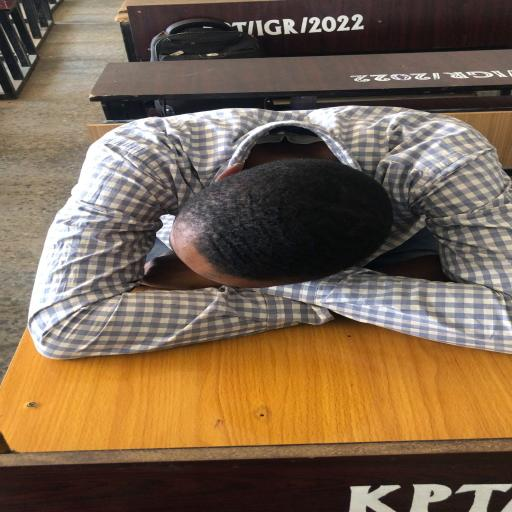Sleeping: (22, 104, 512, 367)
